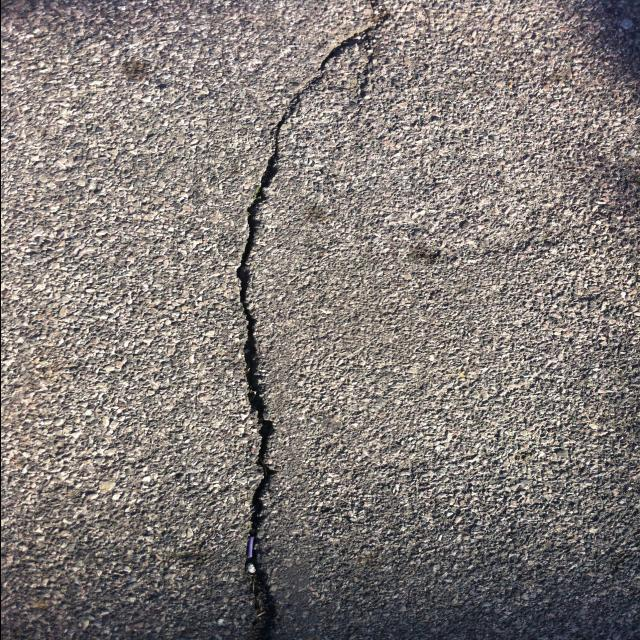Crack: (233, 0, 391, 640)
